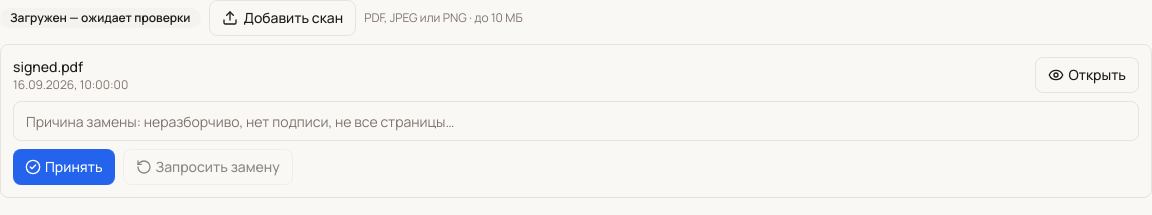
Scenario: signed scan control › lets a methodologist accept a pending scan and refreshes the ledger
Click the button "Принять" at (64, 167), box [13, 149, 114, 185]
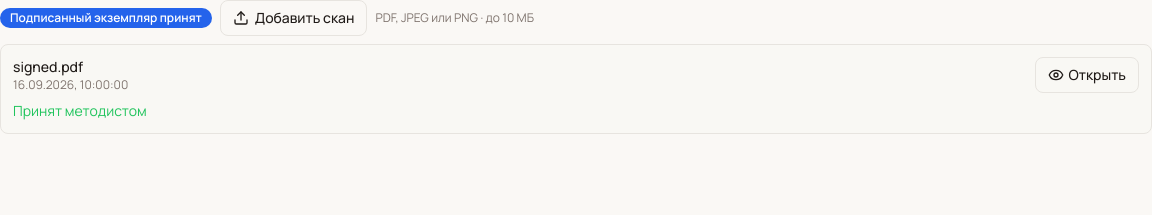
Check: the text "Подписанный экземпляр принят" is shown, box [0, 8, 212, 28]
